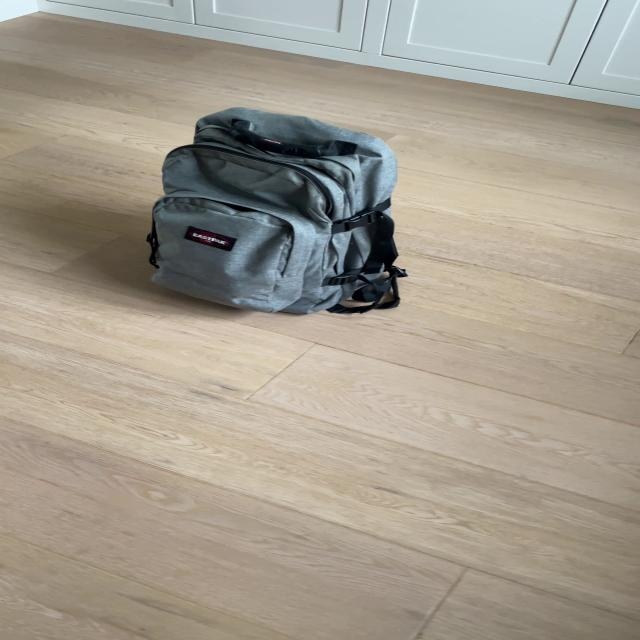backpack: (136, 97, 412, 322)
